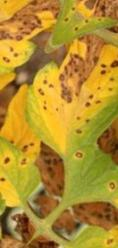Tomato Septoria leaf spot: (0, 0, 118, 202), (0, 113, 59, 225)
